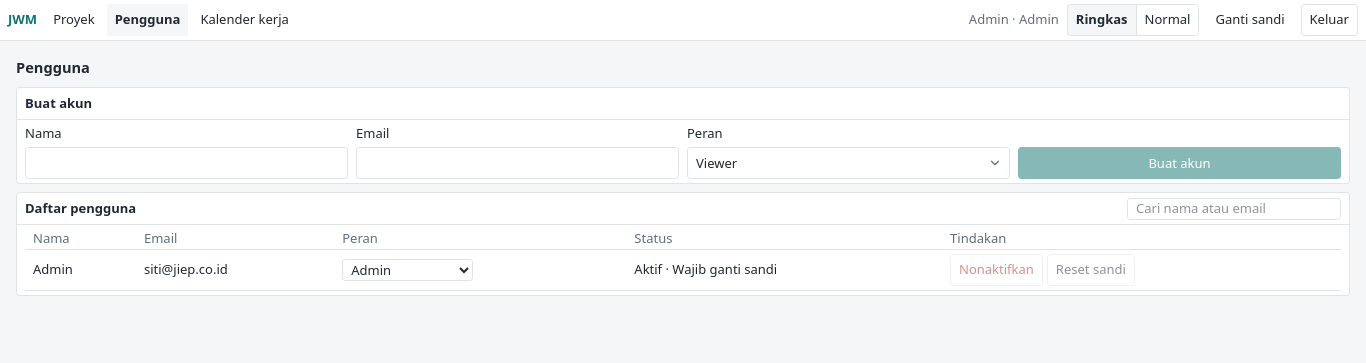
Test: halaman admin pengguna › menampilkan sandi sementara satu kali setelah akun dibuat
Type "Siti" into the field labelled "Nama" at point(186, 163), box [25,147,348,179]
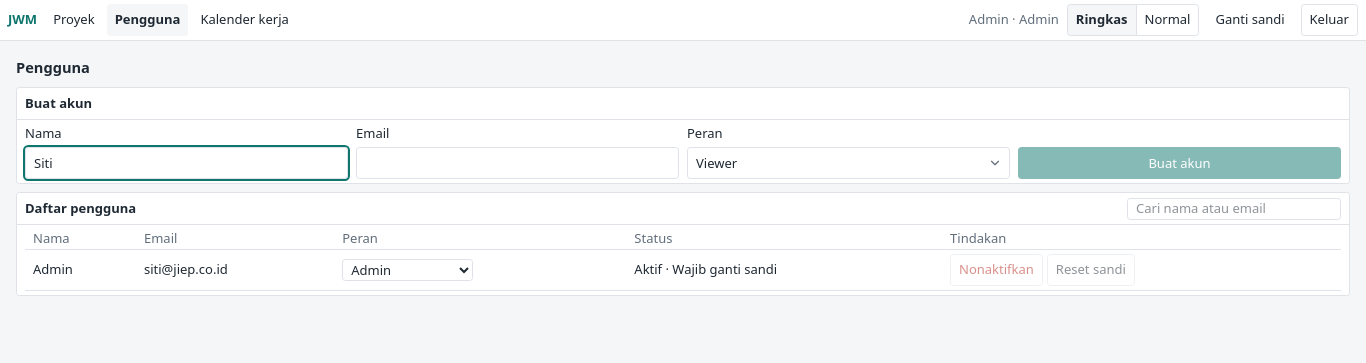
Type "siti@jiep.co.id" into the field labelled "Email" at point(518, 163), box [356,147,679,179]
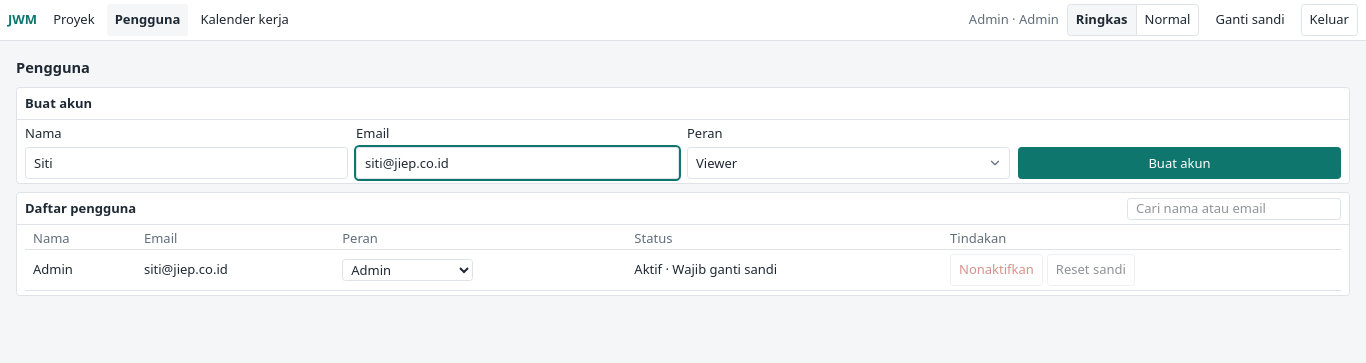
Click the button "Buat akun" at point(1180, 163), box [1018,147,1341,179]
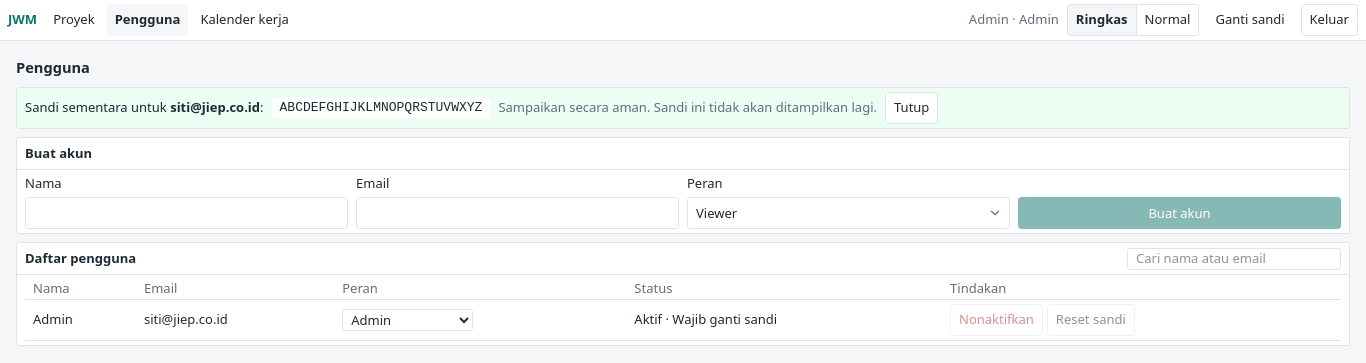
Check: the text named "Sandi sementara" reads "ABCDEFGHIJKLMNOPQRSTUVWXYZ", box [280,100,482,115]
Click the button "Tutup" at point(912, 108), box [885,92,938,124]
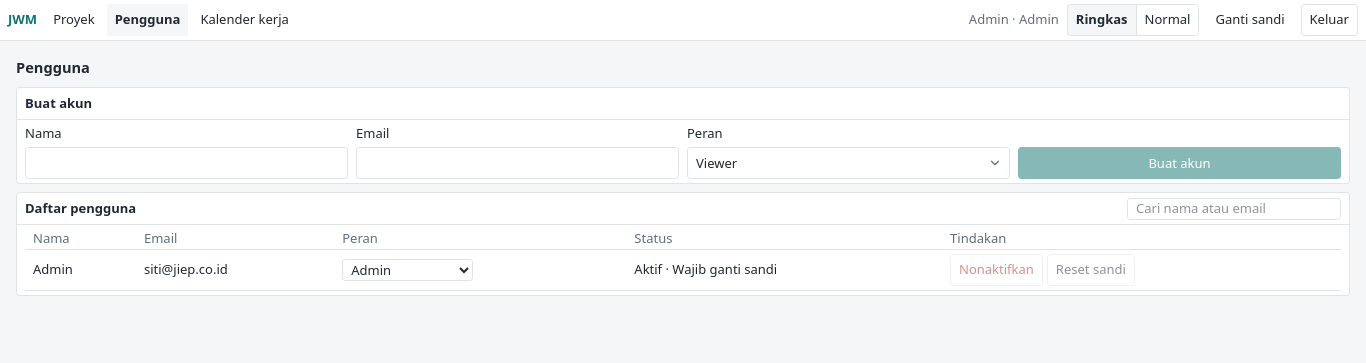
Check: the field labelled "Sandi sementara" is gone
